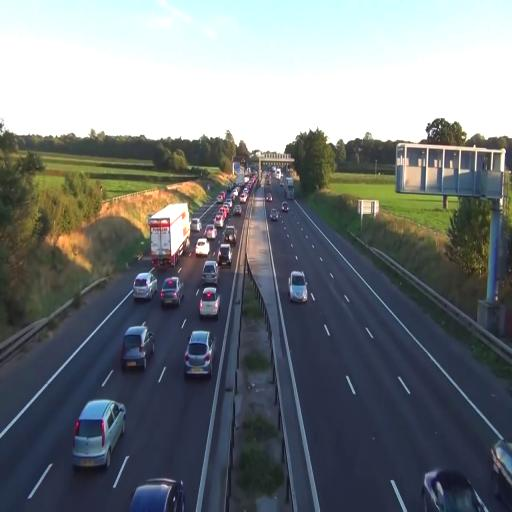vehicle: (72, 398, 126, 469), (423, 468, 489, 512), (148, 204, 190, 271), (130, 478, 185, 511), (121, 323, 154, 371), (184, 330, 214, 378), (490, 438, 512, 494), (198, 285, 220, 320), (133, 271, 157, 302), (160, 276, 183, 308), (289, 269, 309, 304), (202, 259, 218, 284), (216, 244, 232, 267), (196, 238, 210, 257), (268, 207, 279, 222)
